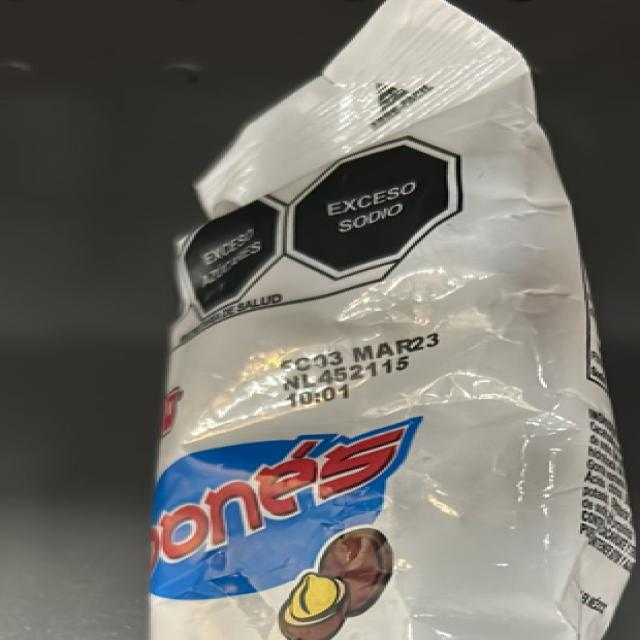leoCacahuates: (176, 119, 579, 640)
